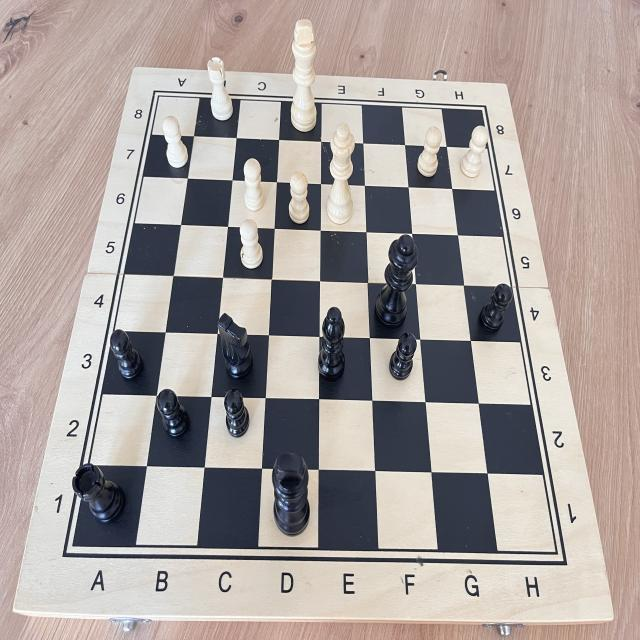black-bishop: (315, 301, 353, 388)
black-king: (264, 444, 318, 543)
black-knight: (208, 306, 258, 389)
black-pawn: (471, 278, 517, 341), (152, 382, 194, 444), (107, 324, 149, 384), (384, 328, 420, 390), (218, 382, 254, 442)
black-queen: (368, 226, 422, 336)
black-rook: (66, 458, 132, 526)
white-king: (283, 13, 322, 139)
white-pawn: (455, 118, 495, 184), (280, 165, 317, 231), (234, 152, 270, 215), (231, 214, 267, 275), (157, 114, 193, 175), (412, 121, 446, 185)
white-queen: (321, 119, 359, 234)
white-rook: (201, 50, 241, 126)
